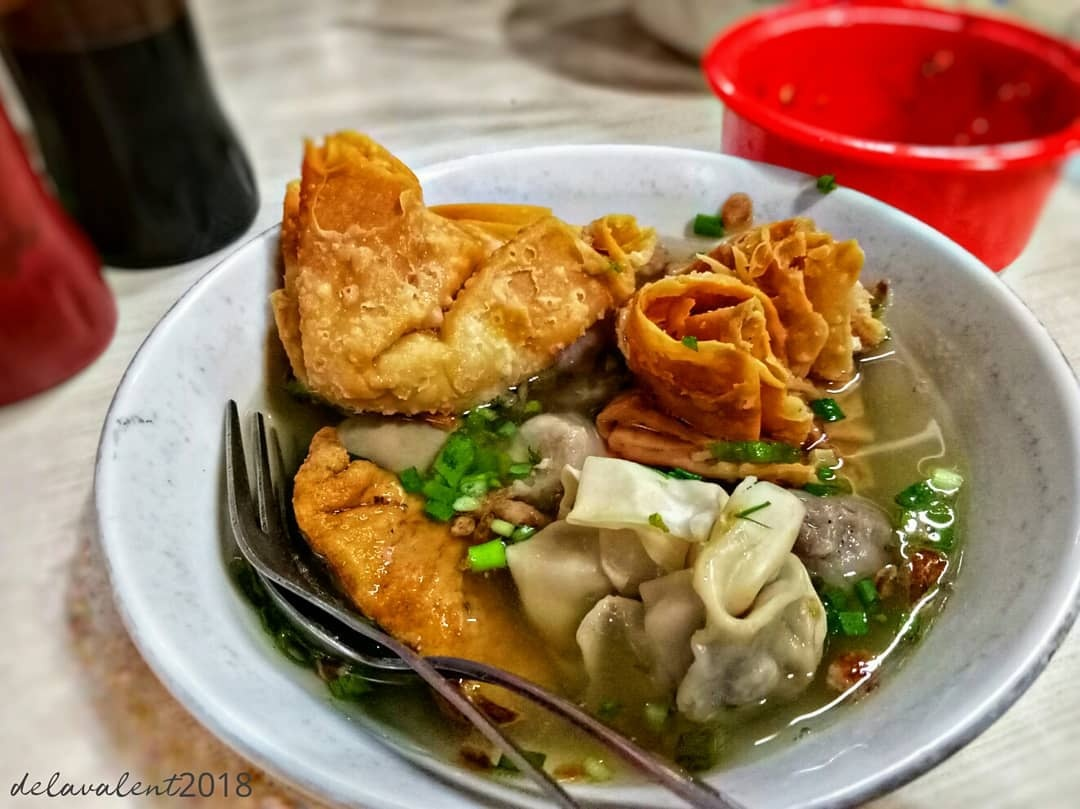bakso_malang: (270, 126, 963, 730)
